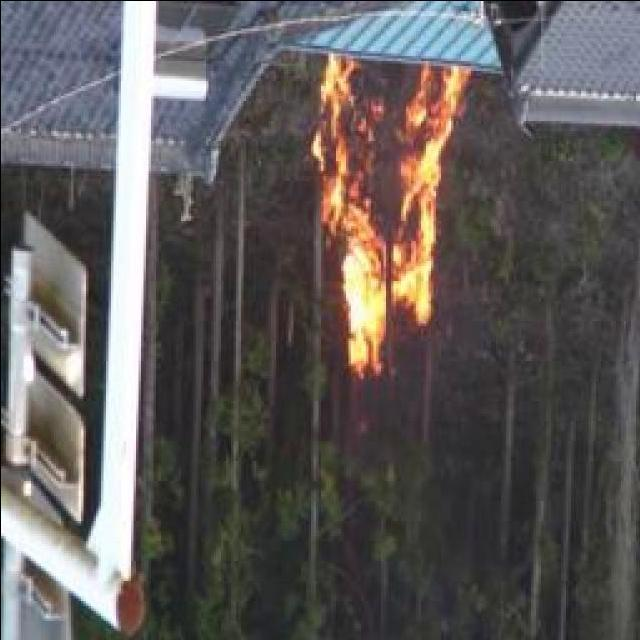Fire: (304, 65, 468, 382)
